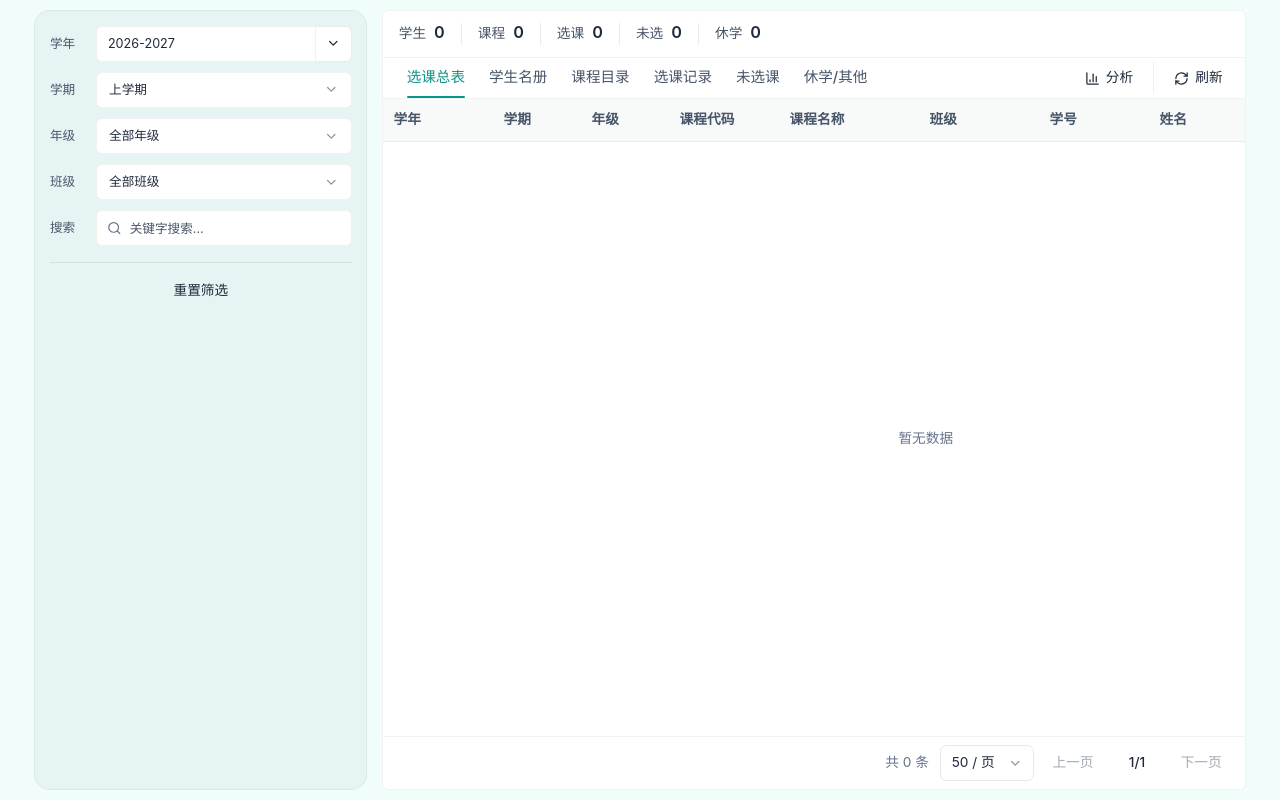
Test case: XBK dynamic term filters › keeps globally available years discoverable when the default year has no data
expect the text "暂无数据" is shown: met, box [898,430,953,446]
expect the field labelled "学年" holds "2026-2027": met, box [96,26,316,62]
// 已有学年通过下拉选择，同时允许直接输入新学年
Click the button named "选择已有学年".
click(334, 44)  # box [316,26,352,62]
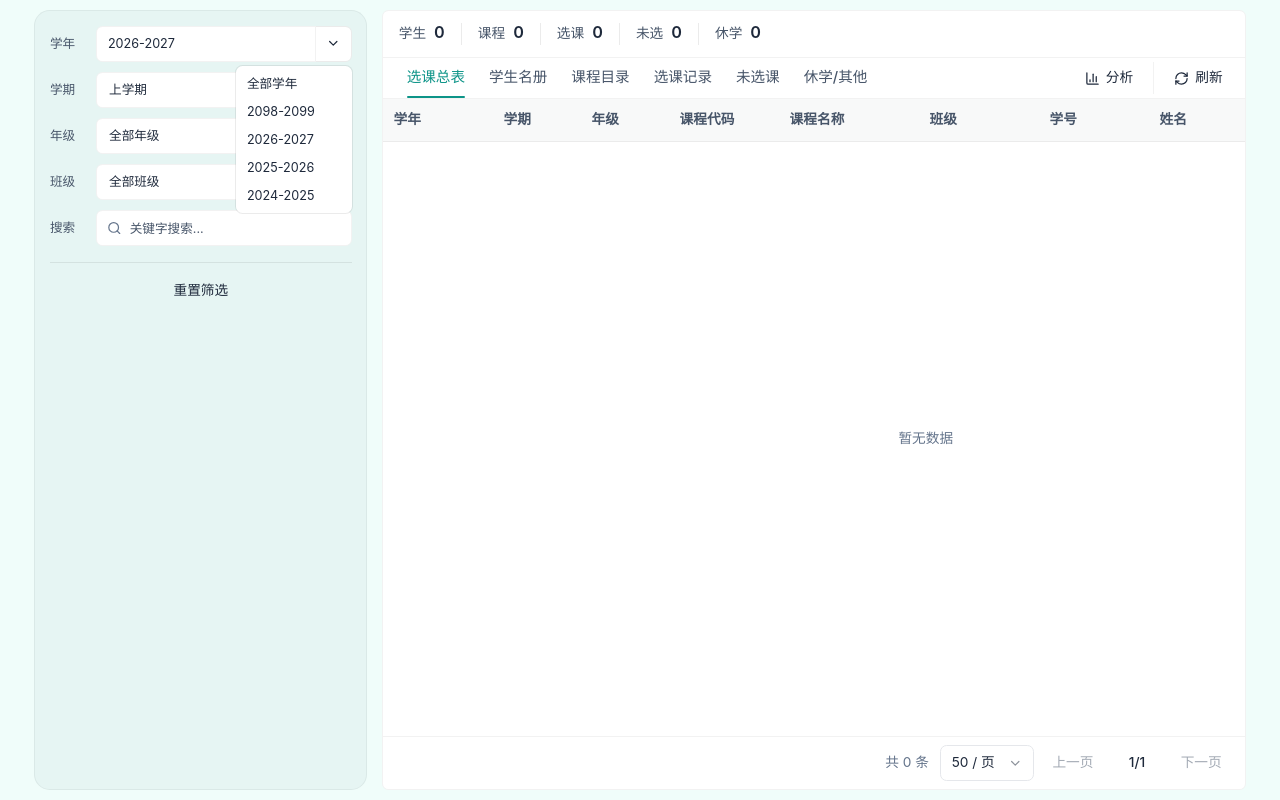
Click the menu item "2098-2099".
click(281, 111)  # box [247,104,315,118]
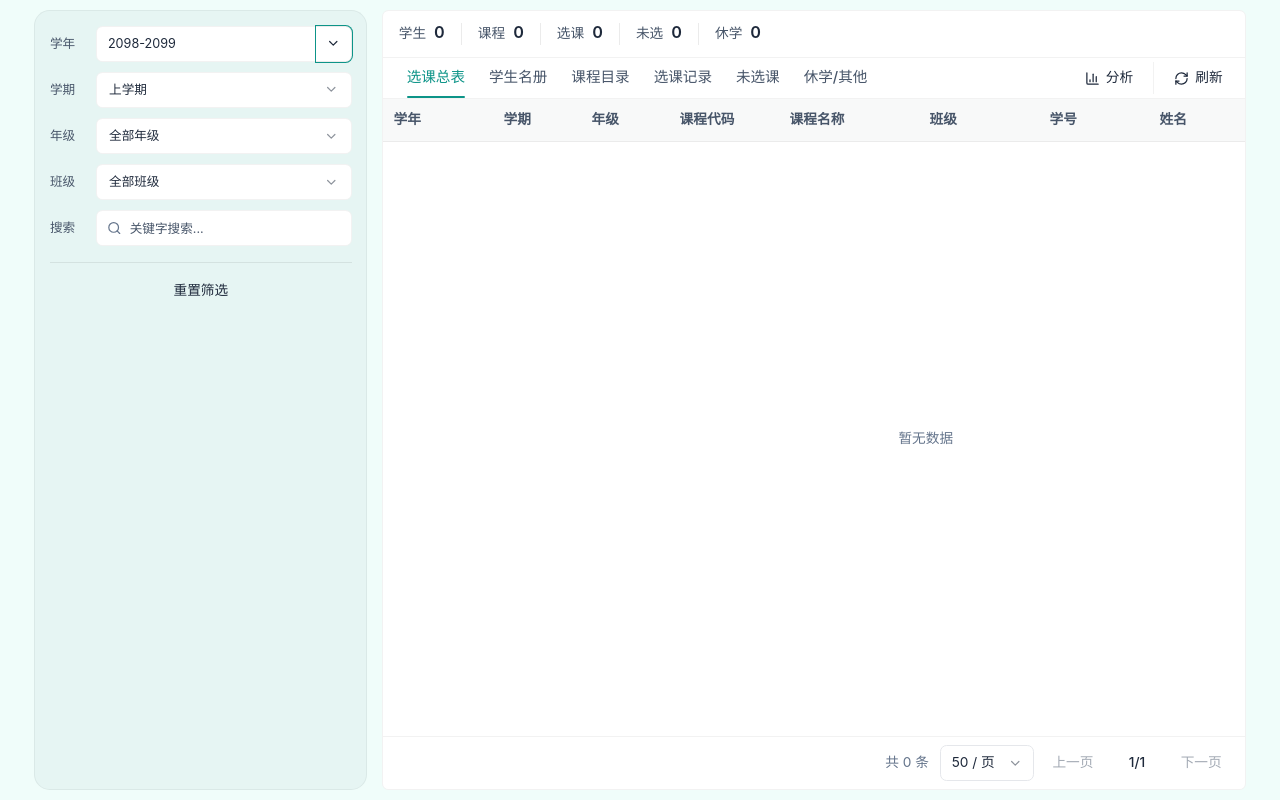
expect the field labelled "学年" holds "2098-2099": met, box [96,26,316,62]
Click the dropdown labelled "学期".
click(224, 90)  # box [96,72,352,108]
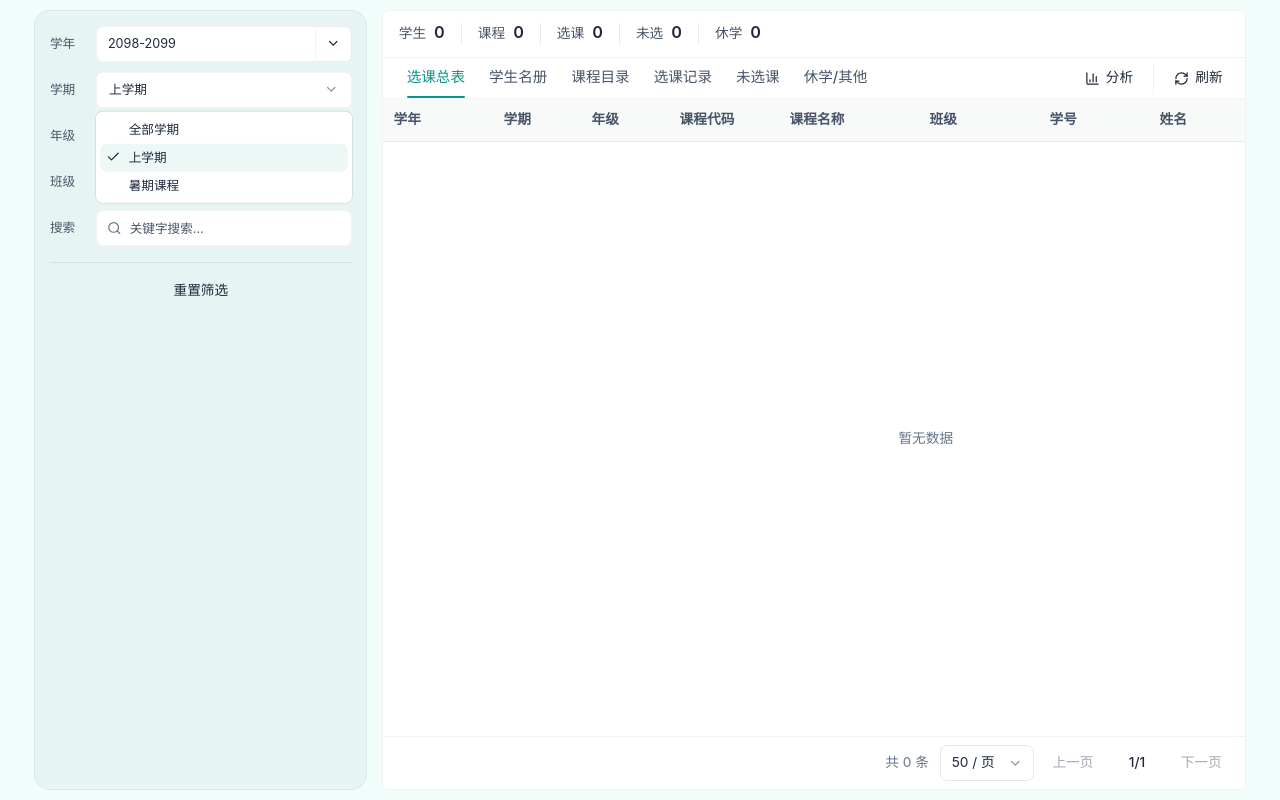
expect the option "暑期课程" is shown: met, box [129,177,179,192]
